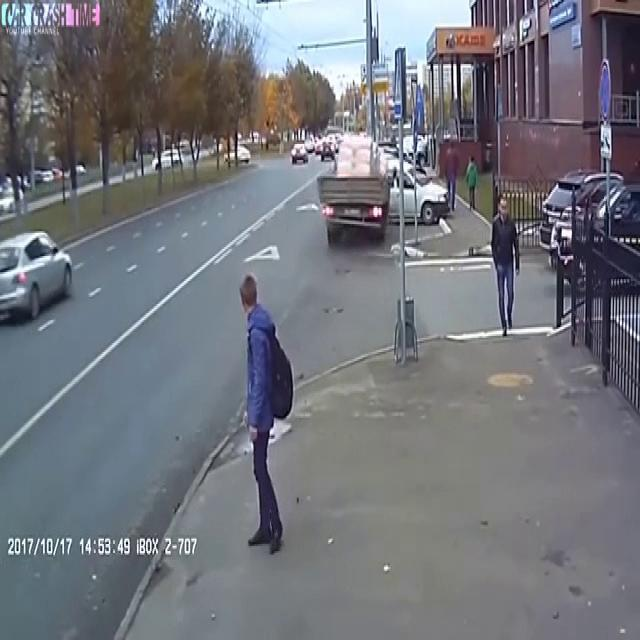accident: (319, 110, 397, 233)
